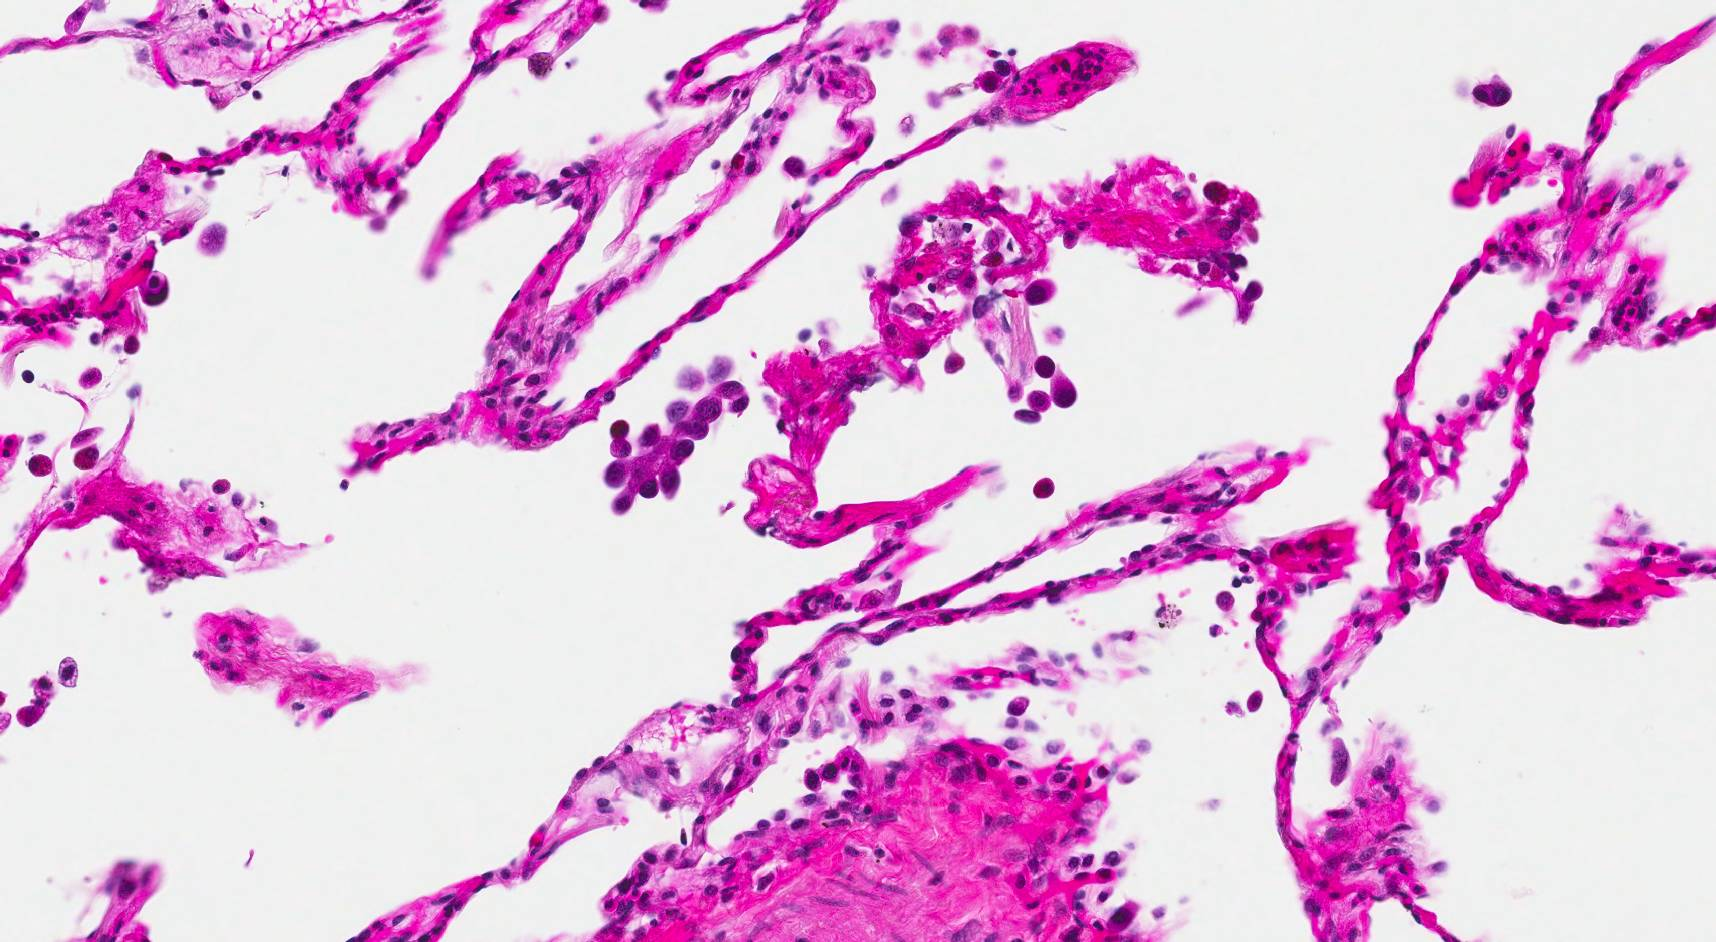stas: (598, 350, 755, 520)
